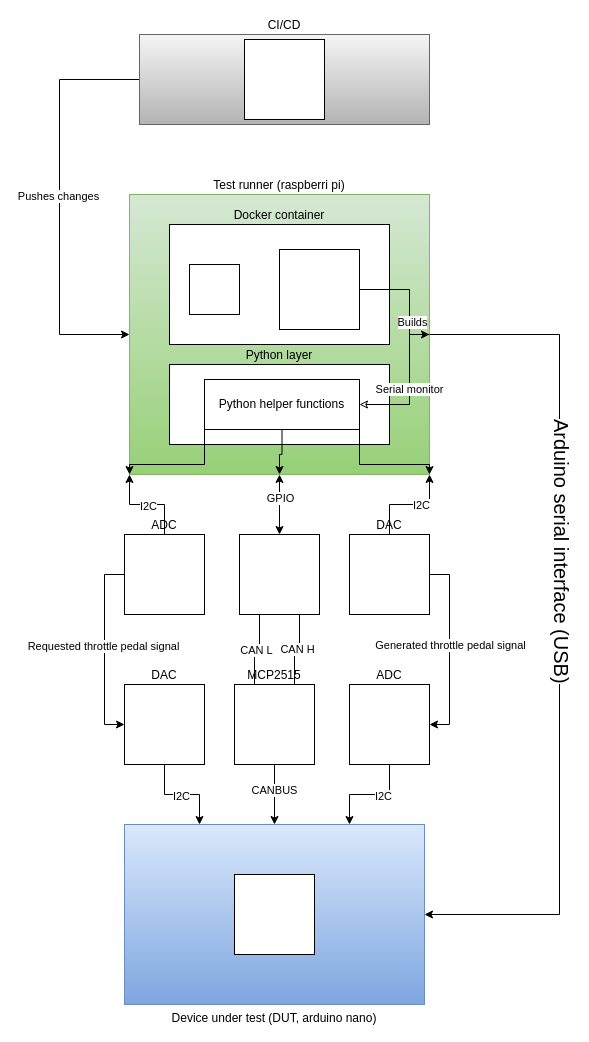
Some shapes in this 589 by 1042 pixel diagram are drawn without their labels. Here are the shapes that lost their labels. From the top down, the centre of each, then its label:
At [284,79]: "Gitlab repo".
At [214,289]: "Pytest scripts".
At [319,289]: "Arduino CLI".
At [279,574]: "CAN shield".
At [274,914]: "Arduino code".
